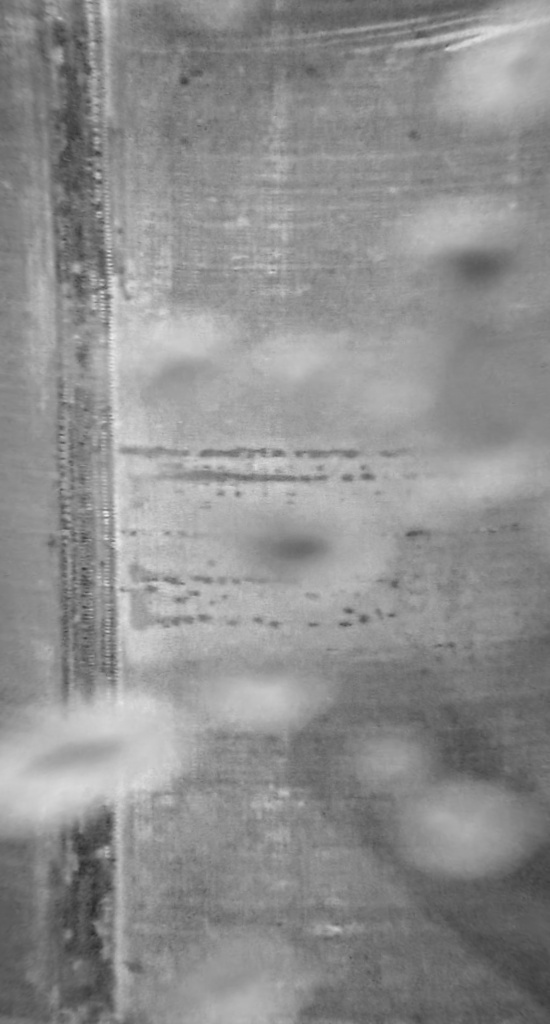splice: (34, 1, 131, 1022)
